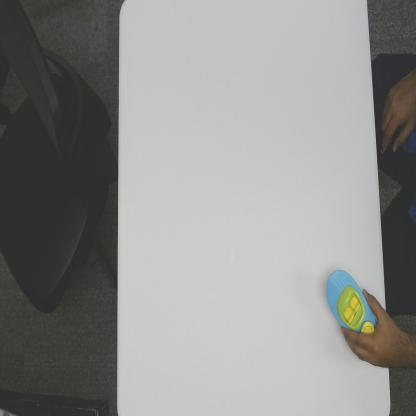Boat: (325, 268, 376, 336)
Hand: (340, 288, 389, 368)
